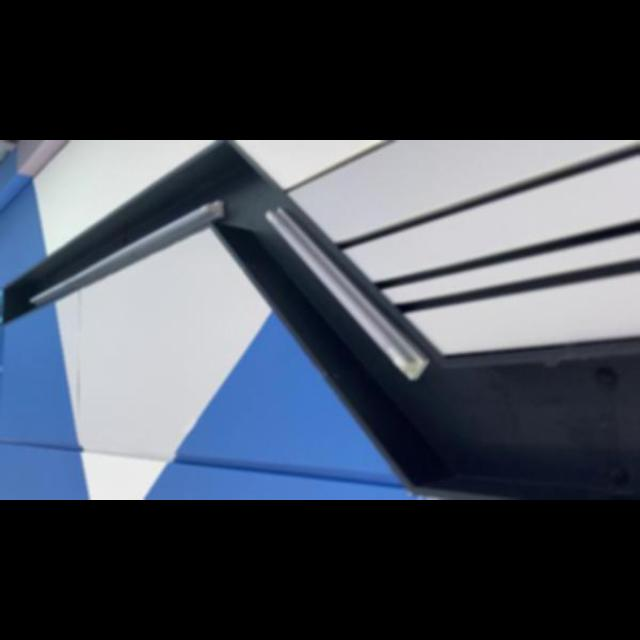Straight-Tube-Fluorescent-Lamp: (262, 188, 434, 390), (17, 183, 231, 331)
